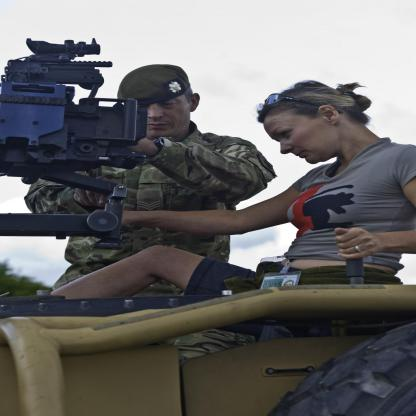face: (272, 110, 323, 165), (128, 89, 184, 135)
